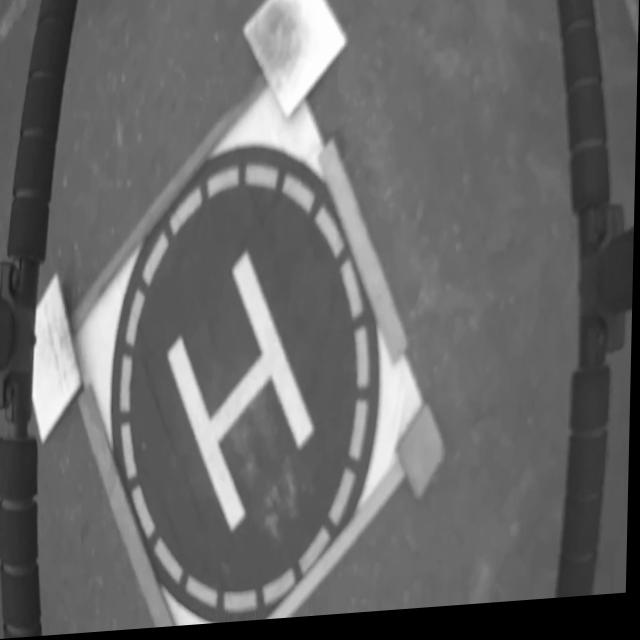Helipad: (170, 256, 318, 540)
